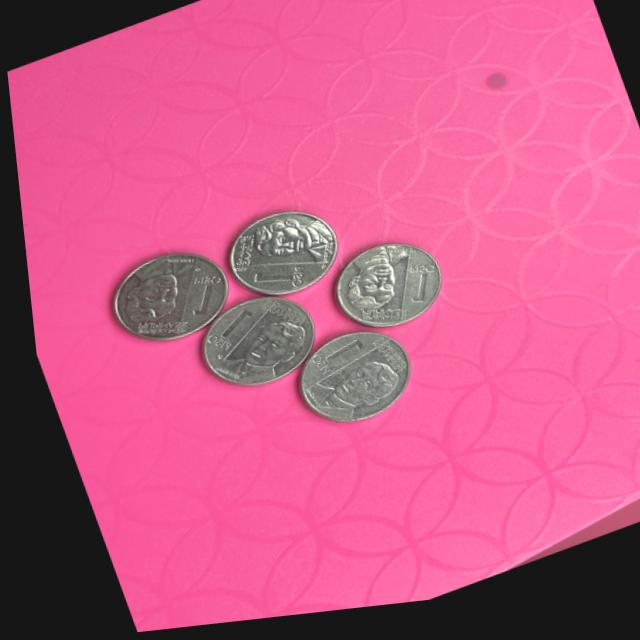1_New_Front: (158, 262, 225, 326), (380, 253, 440, 319), (187, 304, 256, 361), (240, 254, 312, 306), (296, 338, 358, 387)
